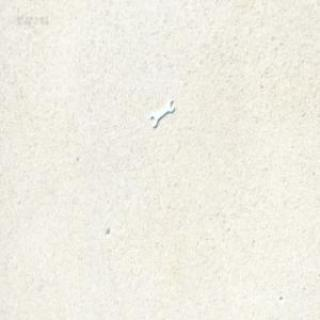Wrenchtrack_idkeyframe: (148, 95, 173, 126)
